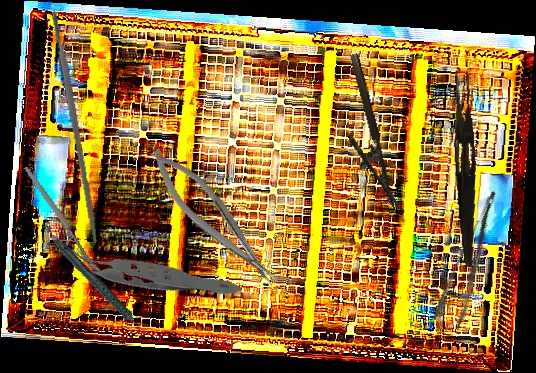Dressing Forceps: (429, 188, 519, 332), (448, 69, 483, 268)
Handpiece: (53, 224, 145, 351)
Needle Holder: (141, 138, 285, 299), (329, 52, 399, 217), (23, 153, 107, 290)
Scalpel Handle: (50, 10, 101, 244)
Tissue Forceps: (57, 181, 242, 359)
